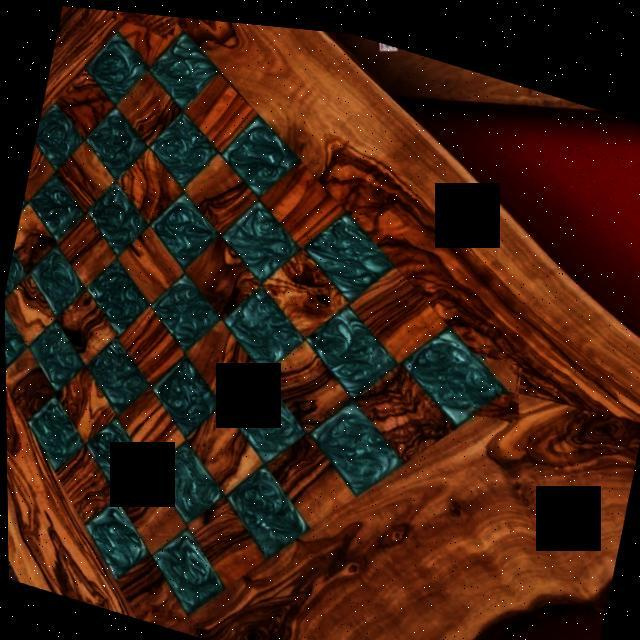chess-table-corners: (456, 339, 524, 416), (108, 8, 183, 36)
